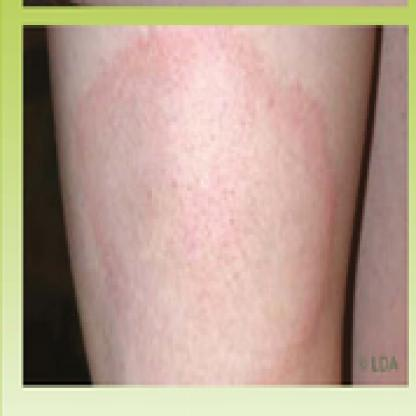Tick: (63, 25, 334, 360)
